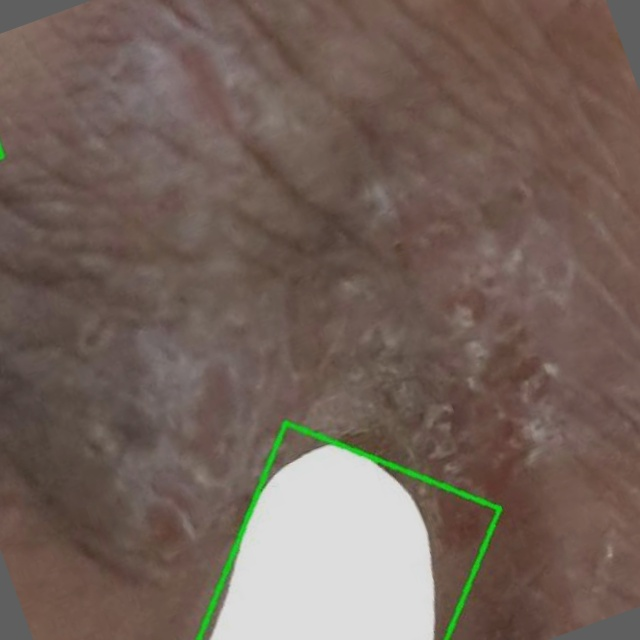Eczema: (199, 422, 500, 639)
